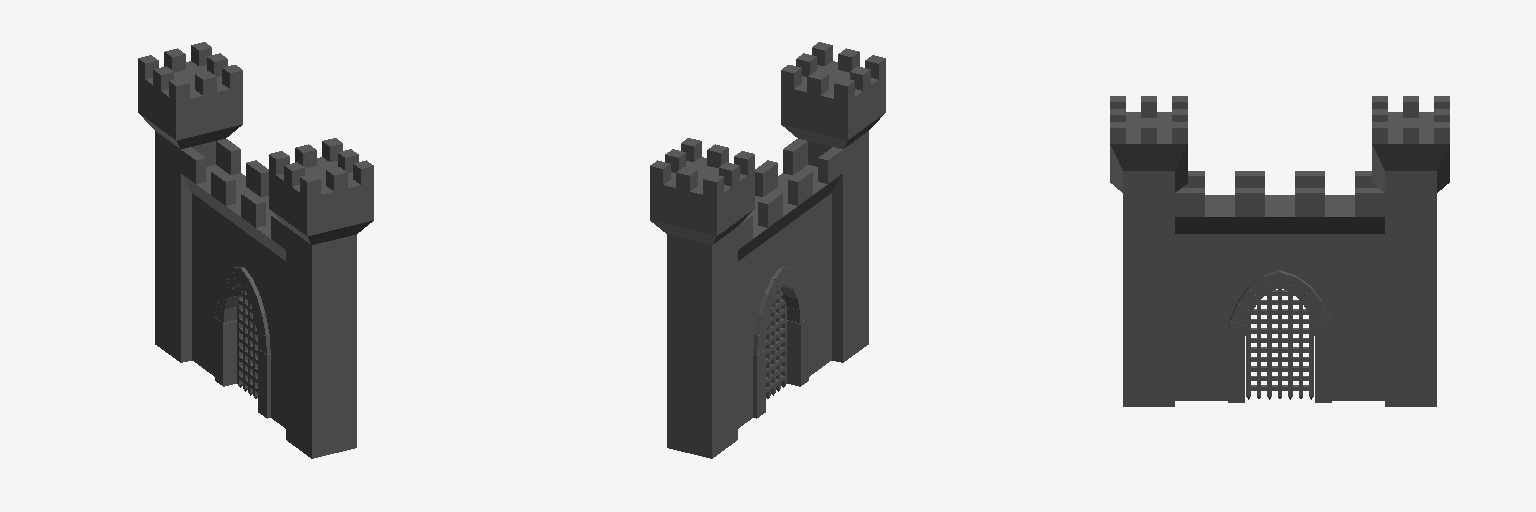
The model's file is Castle.obj.
3 renders of one model, left to right at view 1: azimuth 30°, elevation 25°; view 2: azimuth 150°, elevation 25°; view 3: azimuth 270°, elevation 25°, orthographic.
Visible parts, largest first — view 1: pCube8_Untitled.050, pCube7_Untitled.063, pCube6_Untitled.054, pCube3_Untitled.055; view 2: pCube7_Untitled.063, pCube8_Untitled.050, pCube6_Untitled.054, pCube3_Untitled.055; view 3: pCube6_Untitled.054, pCube8_Untitled.050, pCube7_Untitled.063, pCube3_Untitled.055.
Part boxes in pixels (x1,y1,x2,y2): pCube8_Untitled.050: (269,138,373,458); pCube7_Untitled.063: (138,42,242,362); pCube6_Untitled.054: (181,139,285,428); pCube3_Untitled.055: (215,267,270,418); pCube7_Untitled.063: (650,138,754,458); pCube8_Untitled.050: (781,42,885,362); pCube6_Untitled.054: (738,139,842,428); pCube3_Untitled.055: (753,267,808,418); pCube6_Untitled.054: (1175,171,1384,400); pCube8_Untitled.050: (1110,96,1187,406); pCube7_Untitled.063: (1372,96,1449,406); pCube3_Untitled.055: (1228,270,1331,402).
Size of the model in its own units: 4.43 by 18.18 by 19.43.